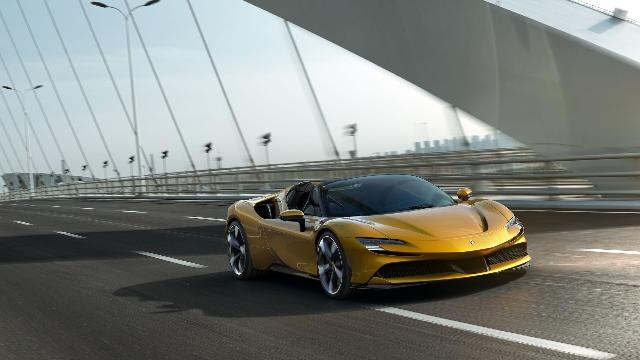ferrari: (226, 174, 532, 300)
